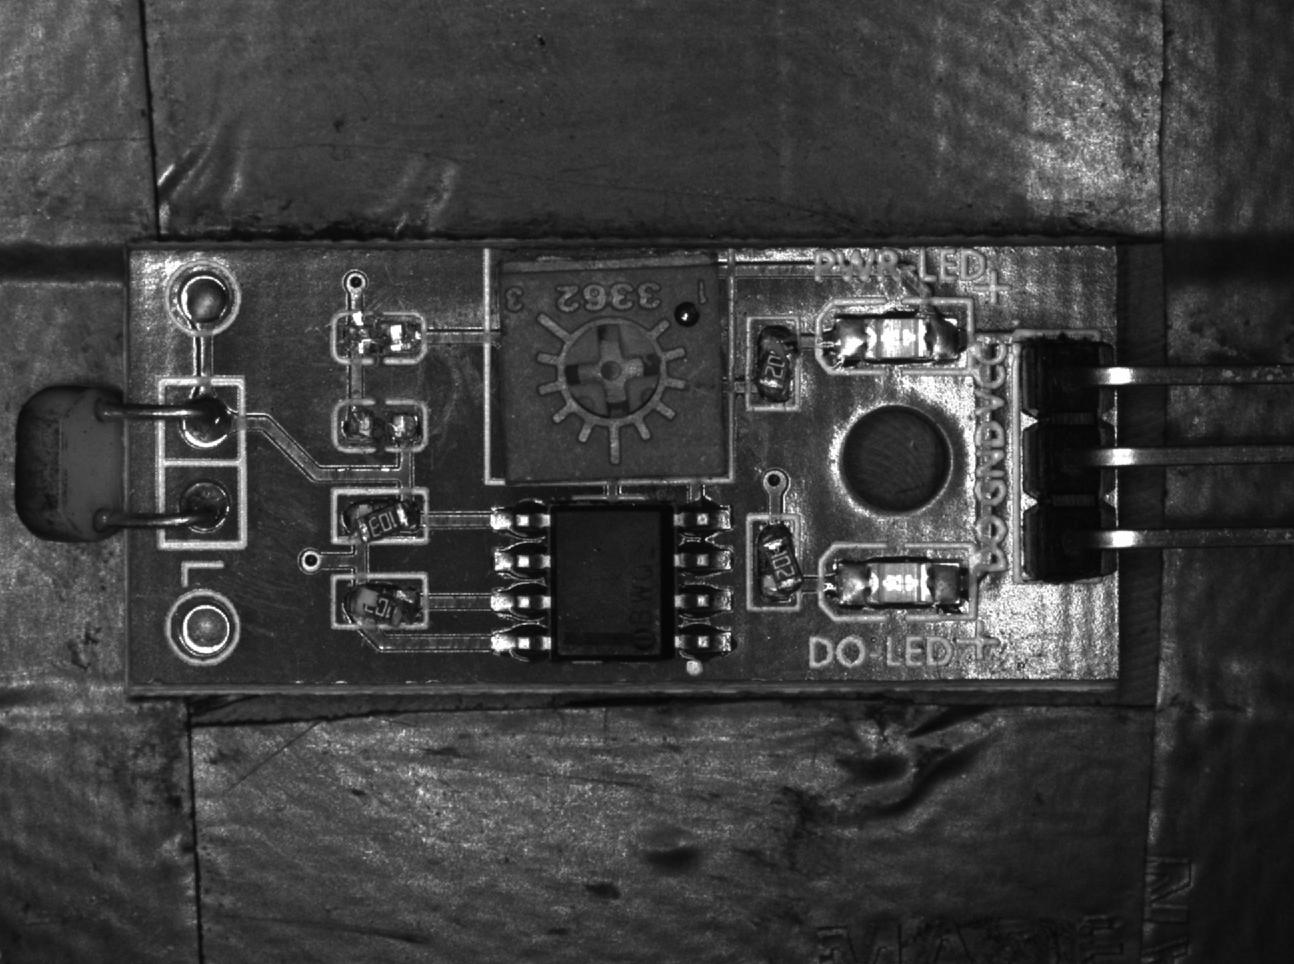lifted: (328, 577, 430, 632), (748, 514, 803, 611), (332, 490, 427, 544), (746, 318, 801, 411)
miss: (336, 398, 425, 452), (333, 311, 424, 363)
